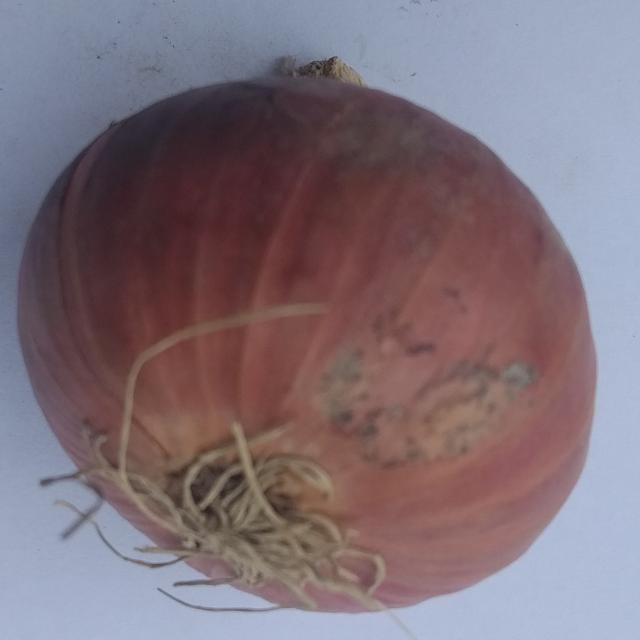onion: (17, 50, 599, 619)
